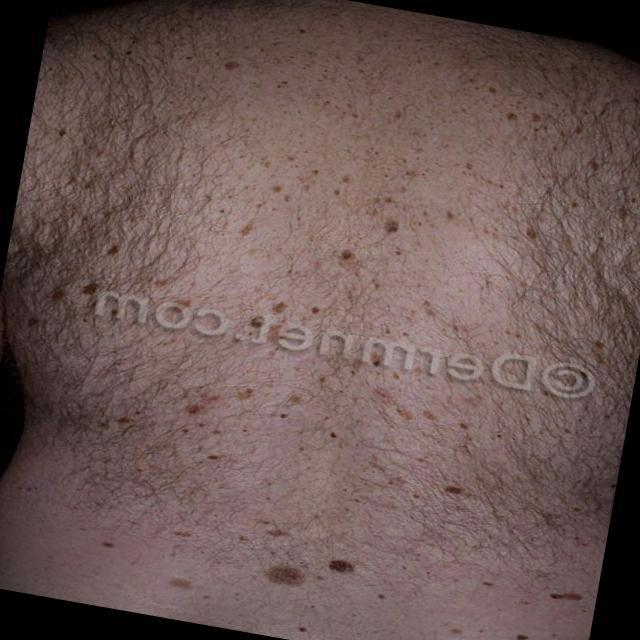Eczema: (53, 60, 607, 624)
